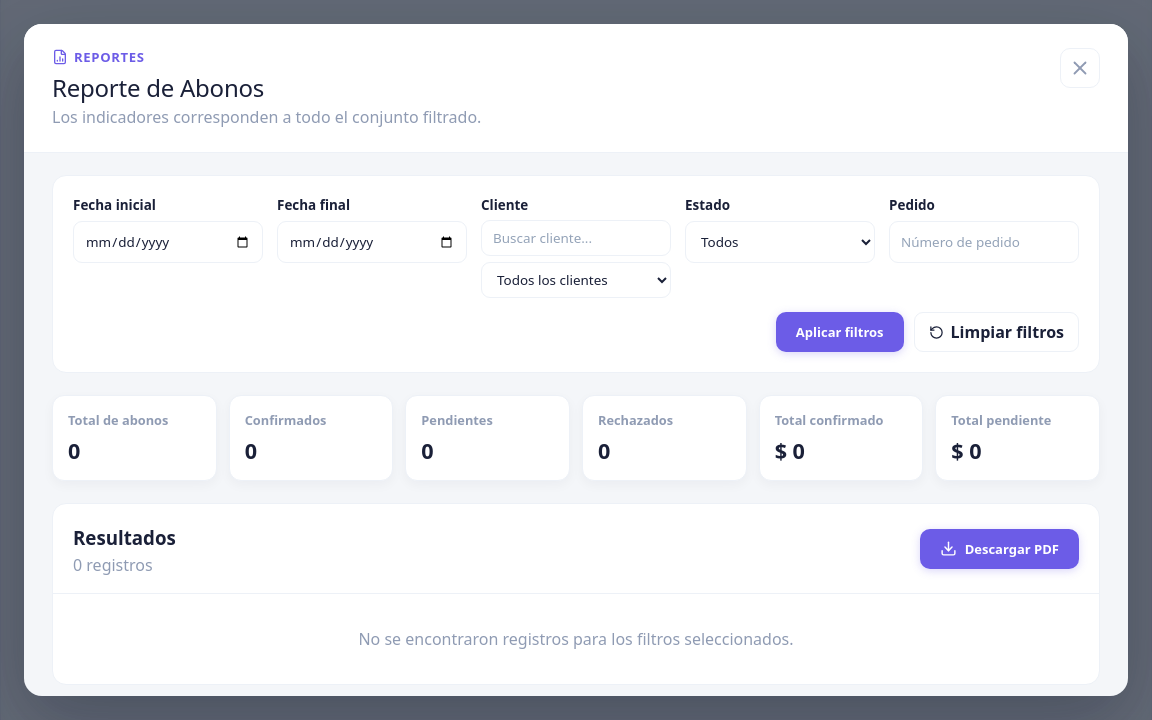
Test case: ReportModal › aplica todos los filtros de Abonos y limpiar vuelve a página 1 sin filtros
The width and height of the screenshot is (1152, 720).
Type "2026-09-01" into the date field labelled "Fecha inicial" at [168, 242], box 73,221 -> 263,263
Type "2026-09-30" into the date field labelled "Fecha final" at [372, 242], box 277,221 -> 467,263
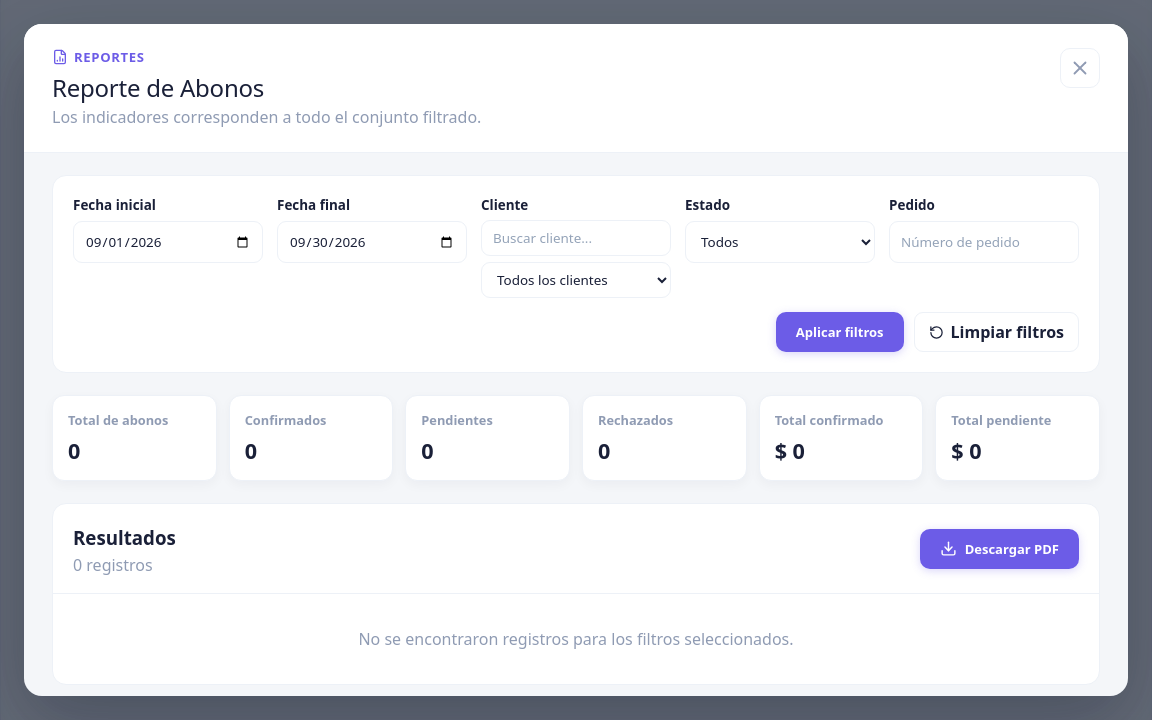
Select "Cliente Pixel" in the dropdown named "Seleccionar cliente" at [576, 280], box 481,262 -> 671,298
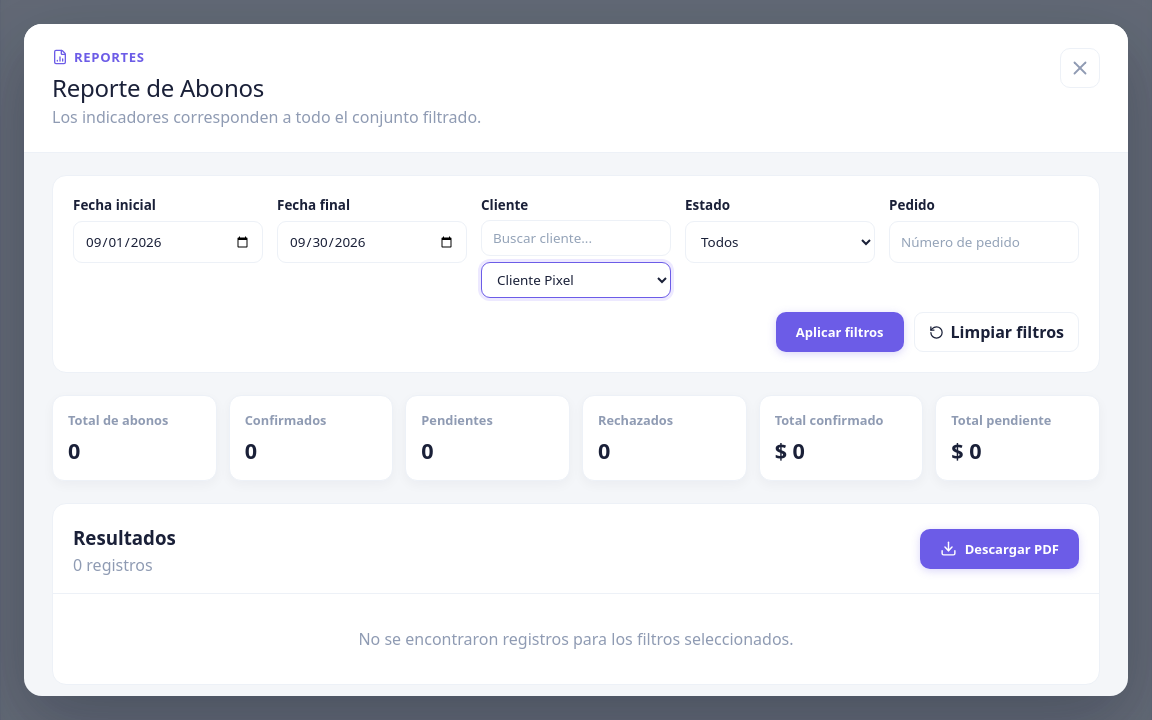
Select "Confirmado" in the dropdown labelled "Estado" at [780, 242], box 685,221 -> 875,263
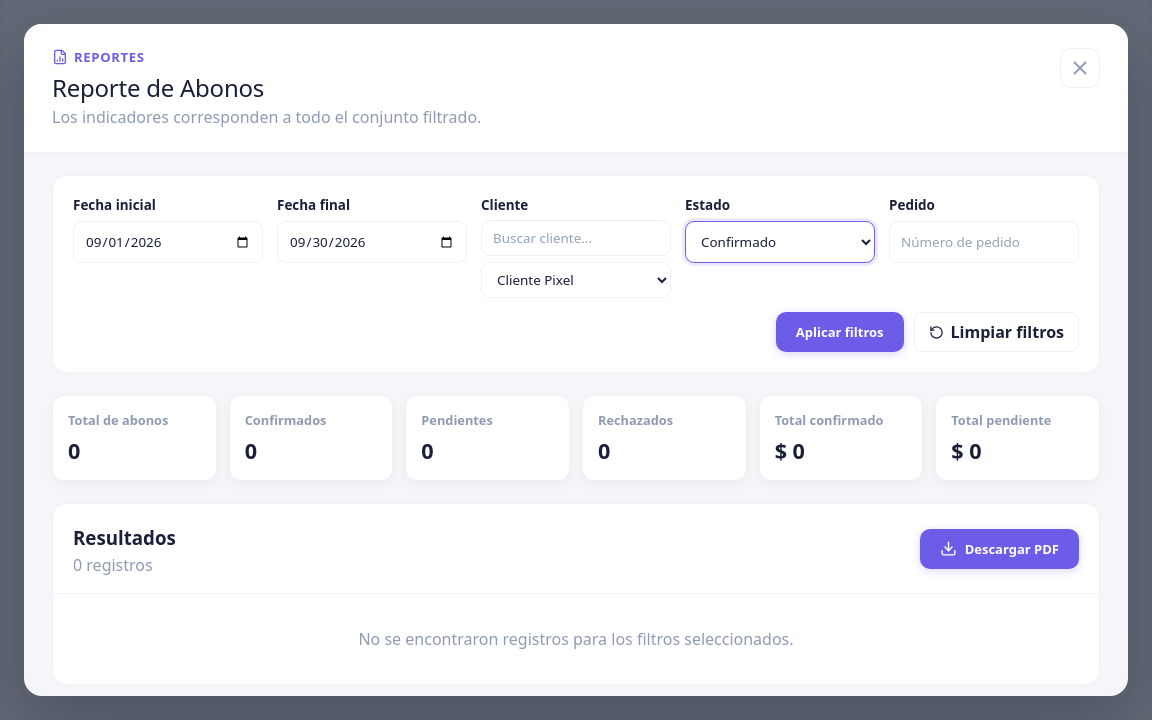
Type "34" into the number field labelled "Pedido" at [984, 242], box 889,221 -> 1079,263
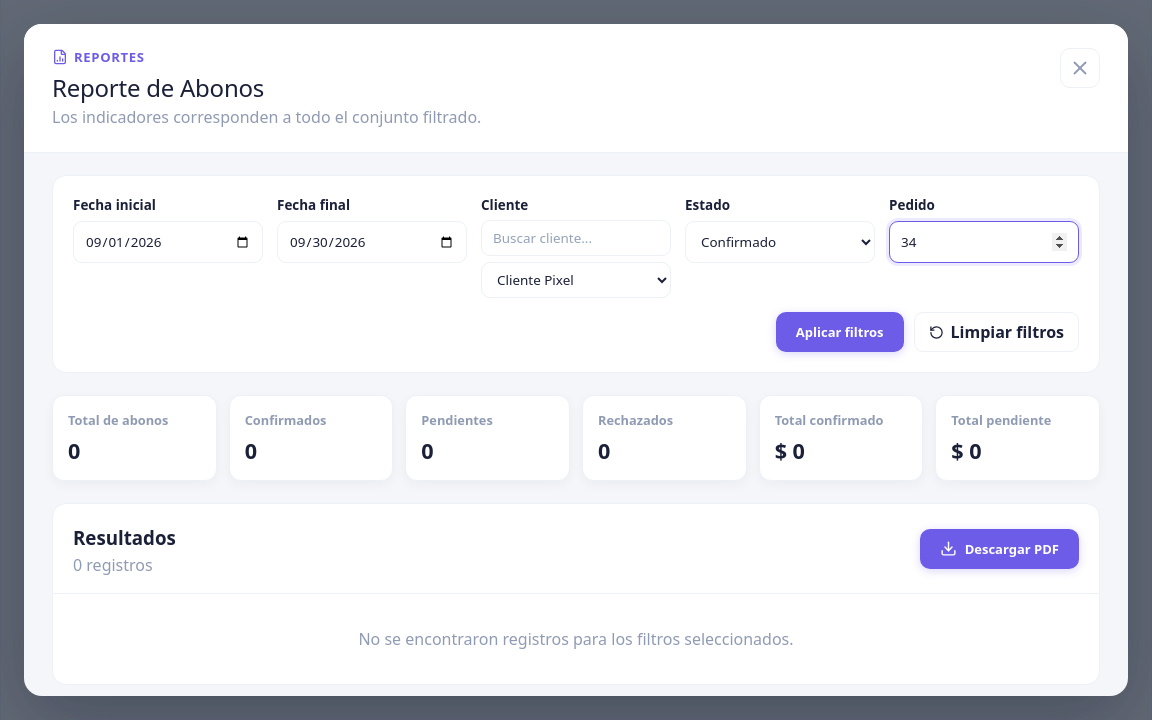
Click the button "Aplicar filtros" at [840, 332], box 776,312 -> 904,352
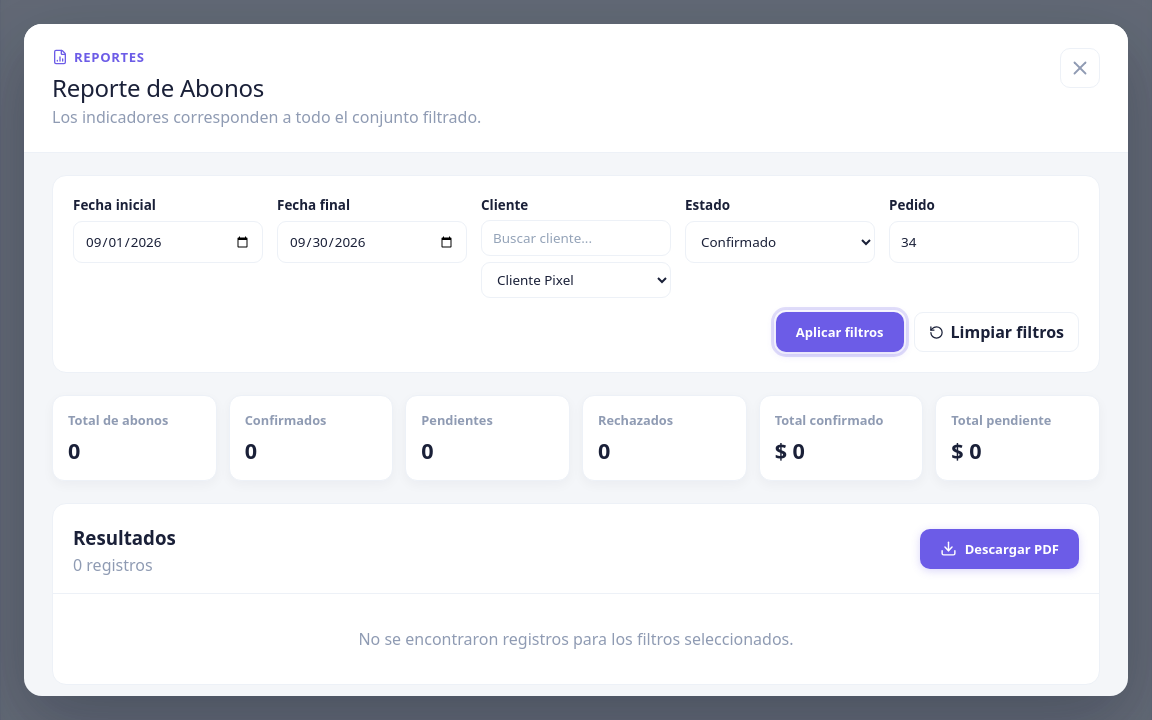
Click the button "Limpiar filtros" at [996, 332], box 914,312 -> 1079,352
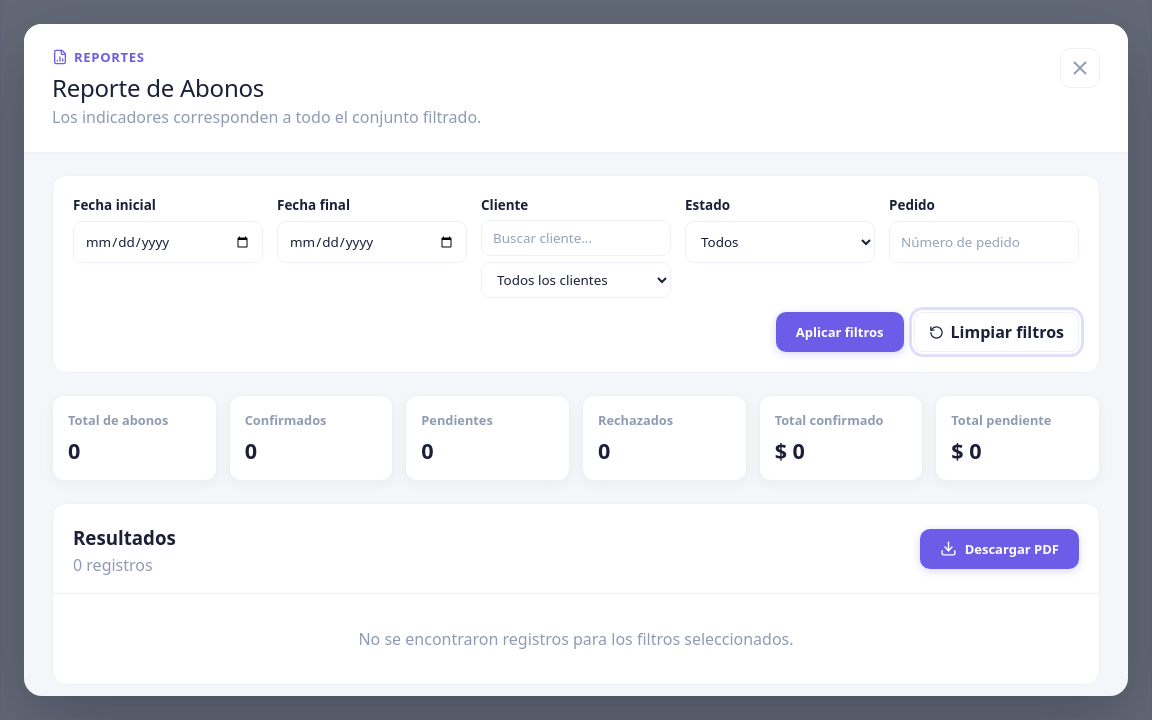
Now the number field labelled "Pedido" is not empty, box 889,221 -> 1079,263
